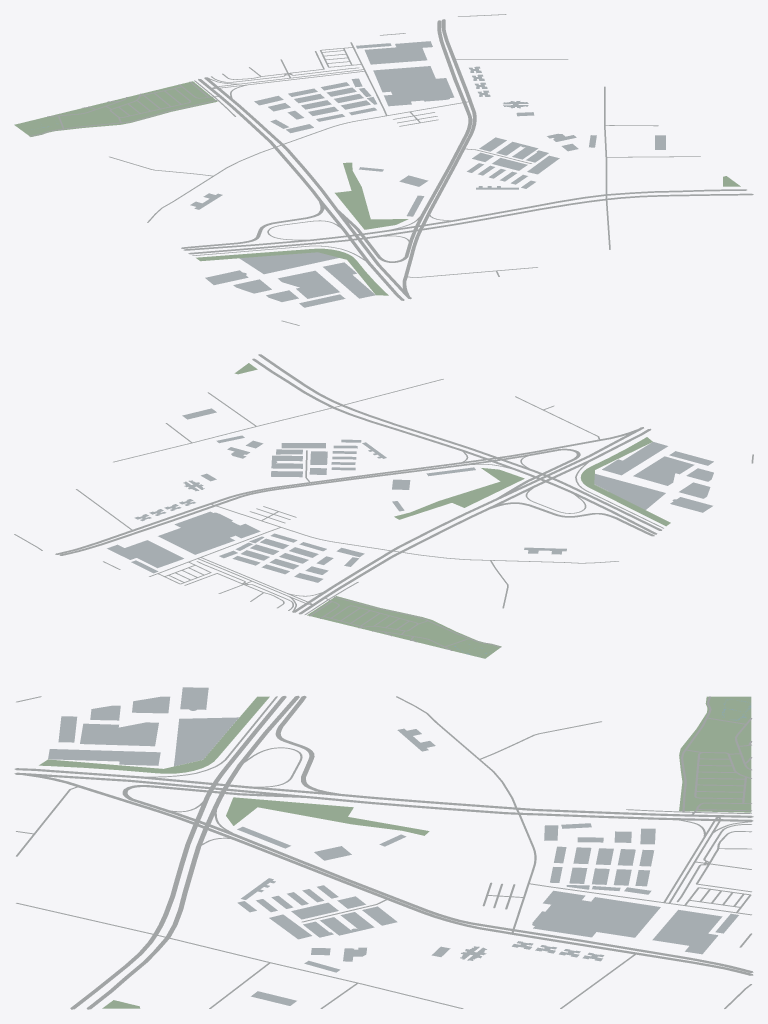
File: -11_15-known-fine.glb
3 views of the same model, one above another, from view 1: azimuth 30°, elevation 25°; view 2: azimuth 150°, elevation 25°; view 3: azimuth 270°, elevation 25° (orthographic). The views are drawn at different scales.
Size of the model in its own units: 1033 by 0.15 by 1002.
